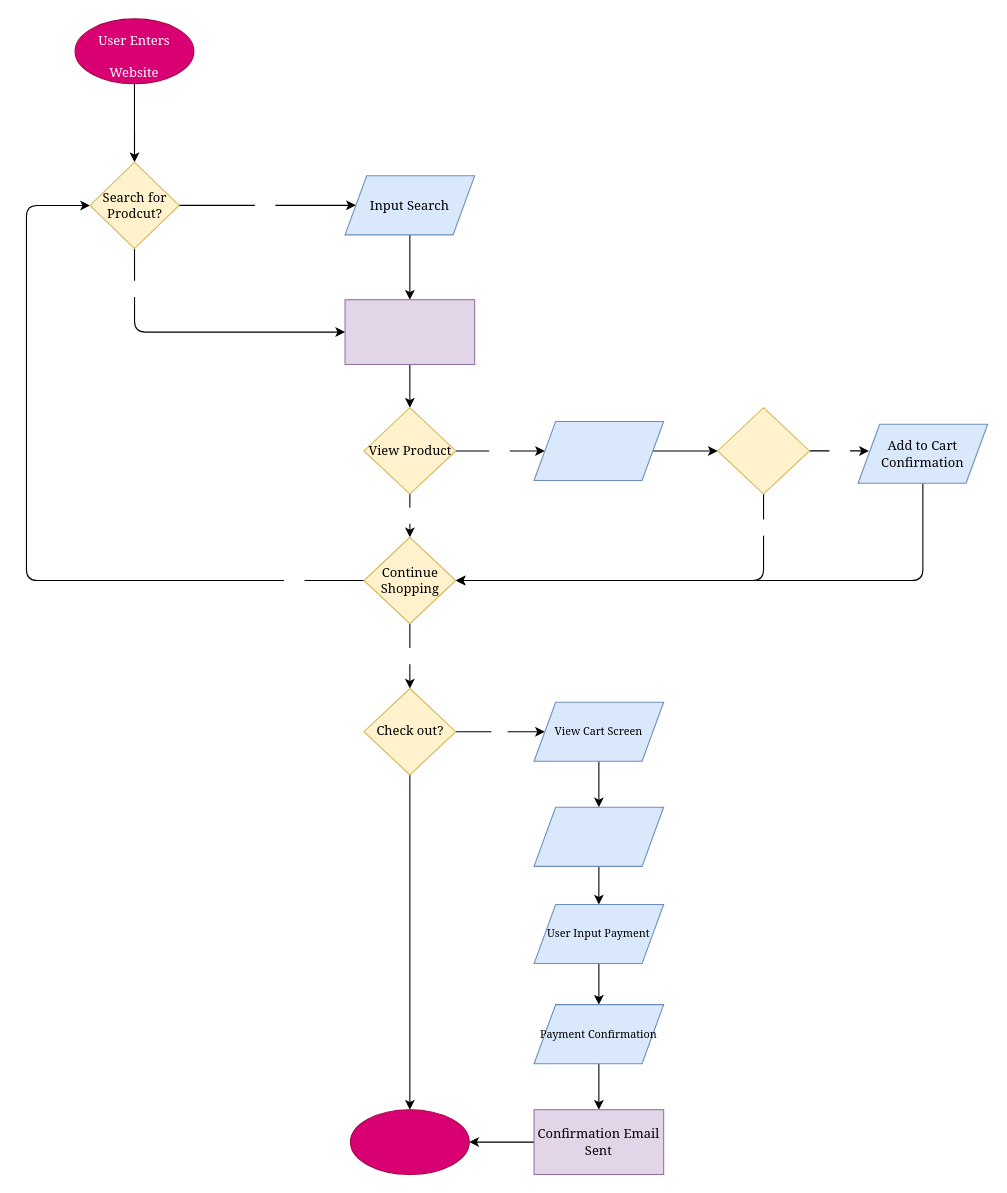
Some shapes in this 1007 by 1193 pixel diagram are drawn without their labels. Here are the shapes that lost their labels. From the top down, the box of each, then its label:
(344, 299, 475, 364): Looking Over Products
(533, 420, 664, 480): Product Page Opens
(717, 407, 809, 494): Add to Cart
(533, 806, 664, 866): View Payment
(349, 1109, 469, 1174): User Exits Website
